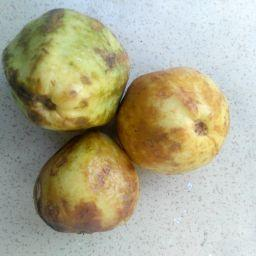guava: (3, 10, 119, 130), (116, 66, 233, 174), (33, 128, 145, 235)
